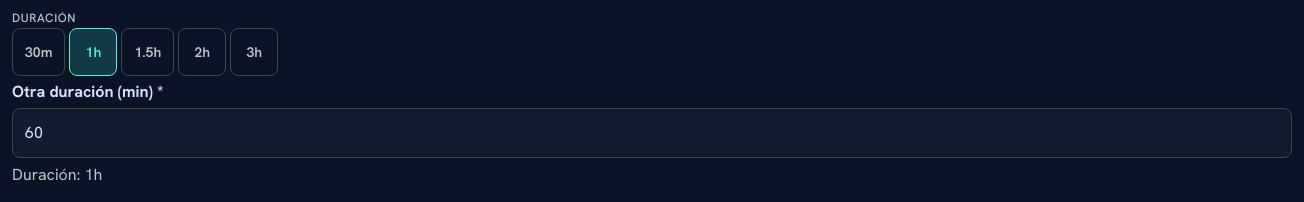
Test: DurationField › clears the preset highlight and shows a computed label for a custom value
The image size is (1304, 202).
Replace the text in the number field labelled "Otra duración (min) *" with "100" at (652, 133), box [12,108,1292,158]
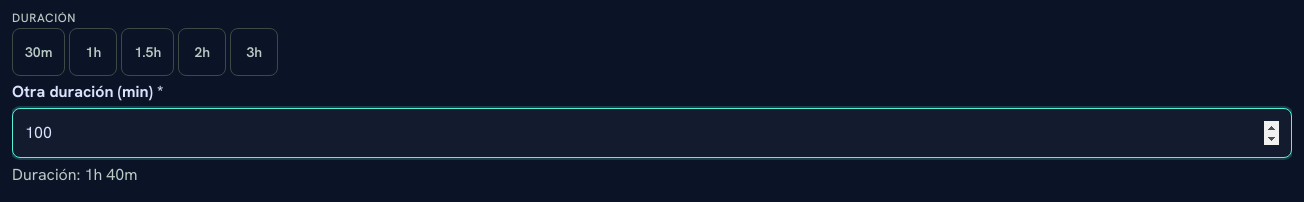
Expected: the text "Duración: 1h 40m" is shown, [12,164,138,185]
